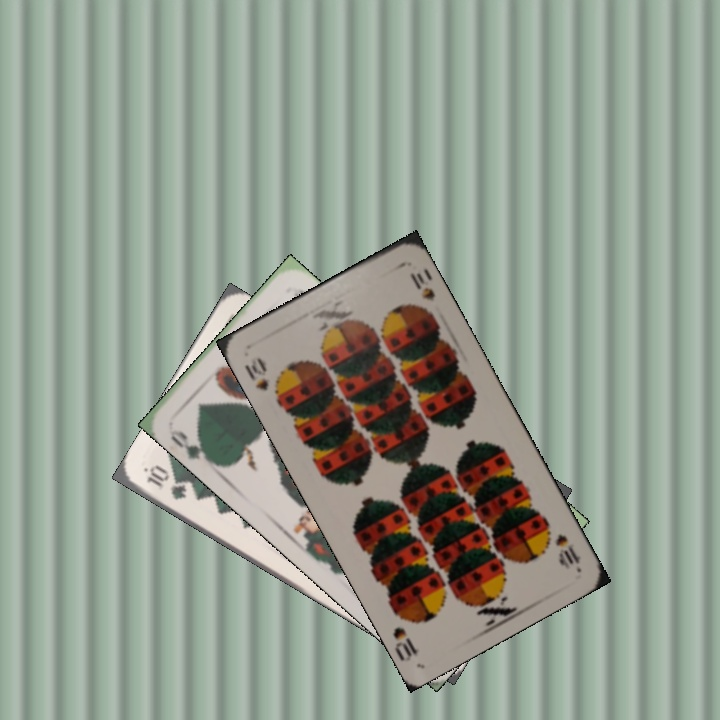G10: (142, 462, 189, 503)
GO: (165, 425, 216, 467)
S10: (240, 353, 284, 404), (551, 529, 584, 571)
